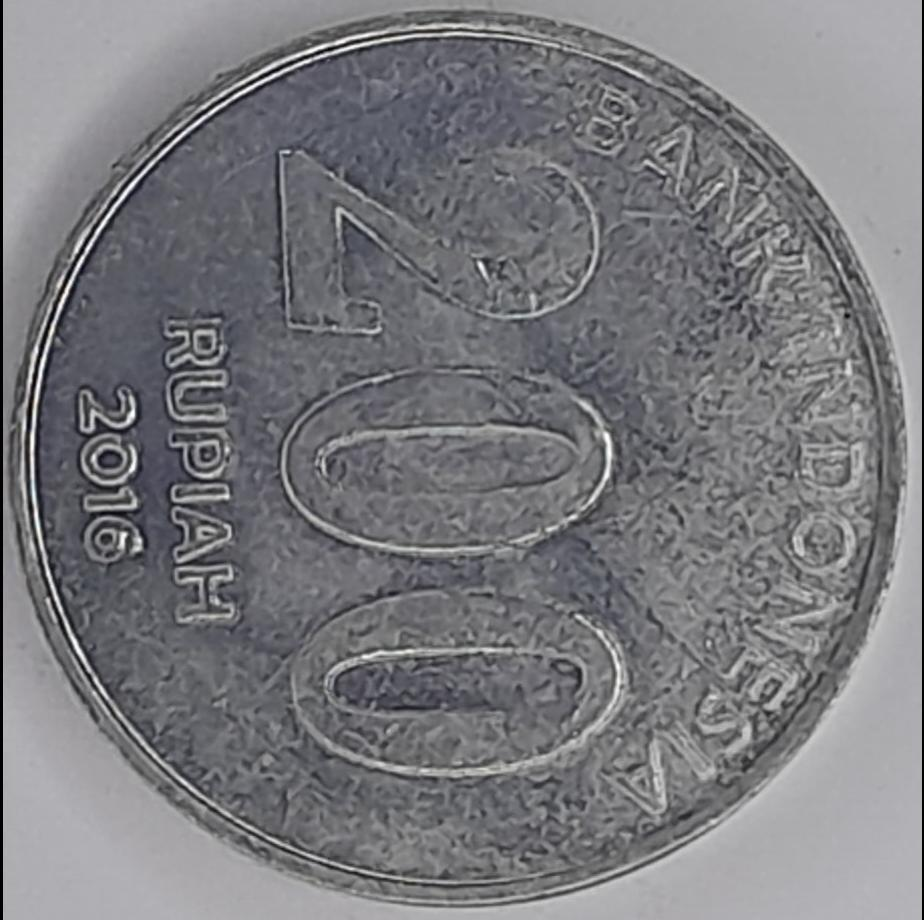coin_200_e2016: (0, 16, 924, 920)
